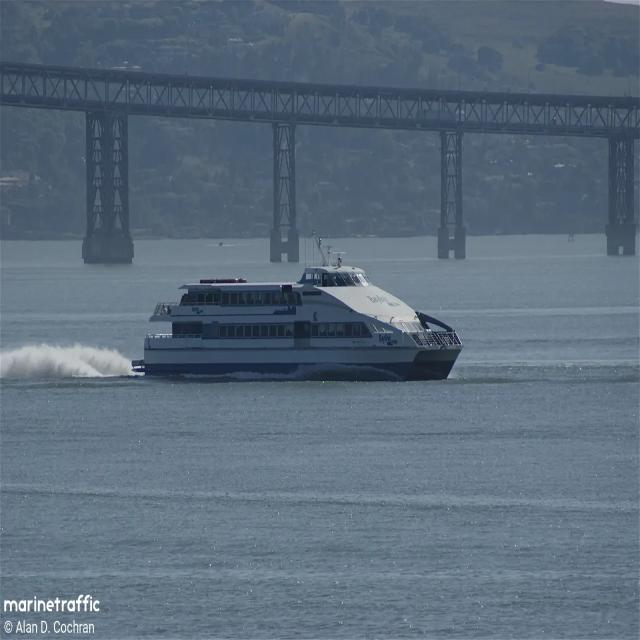Passenger: (137, 256, 462, 379)
